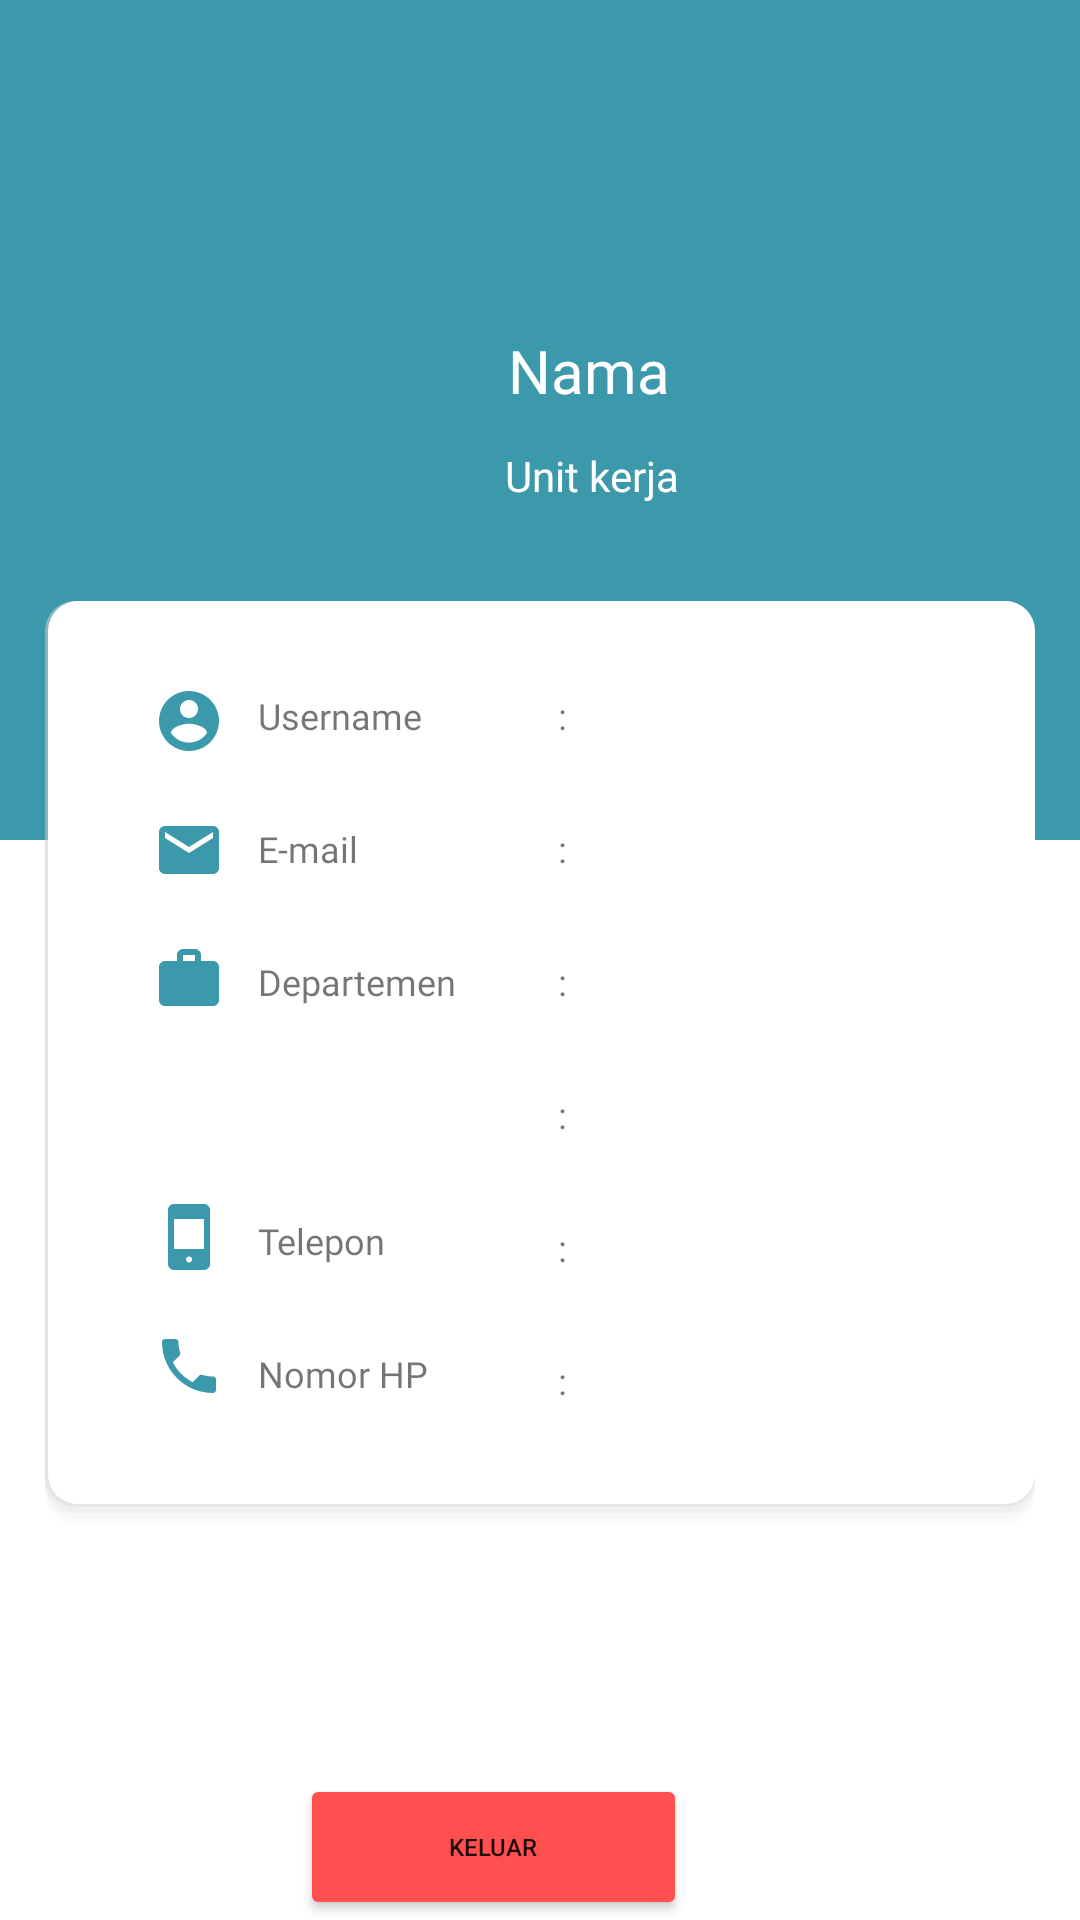

Icon bounding boxes for this 1080 × 1920 phone screenshot, format (x1, y1, x2, y2):
local phone: (162, 1339, 216, 1393)
symbols phone iphone: (168, 1204, 210, 1270)
symbols work: (159, 949, 219, 1006)
user circle: (159, 691, 219, 751)
